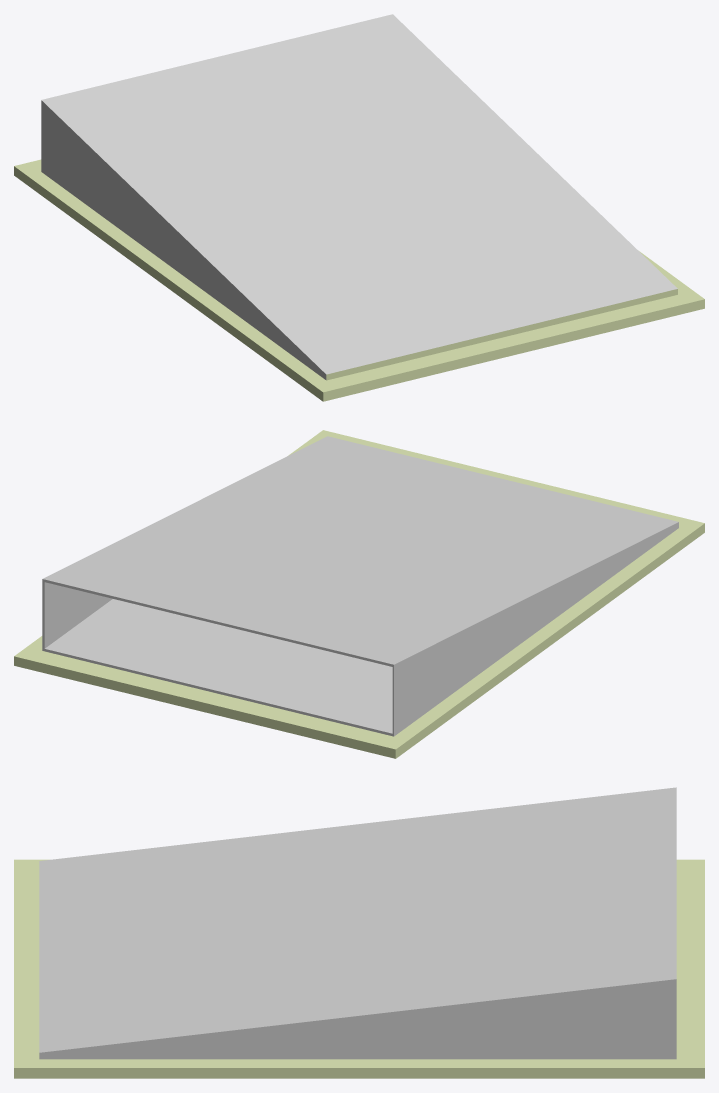
Rendered from plastrik kertas.fbx.
3 views of the same model, one above another, from view 1: azimuth 30°, elevation 25°; view 2: azimuth 150°, elevation 25°; view 3: azimuth 270°, elevation 25° (orthographic). The views are drawn at different scales.
Visible parts, largest first — view 1: plastik kertas; view 2: plastik kertas; view 3: plastik kertas.
Part boxes in pixels (left/top/right/bottom): plastik kertas: left=14, top=14, right=704, bottom=401; plastik kertas: left=14, top=430, right=704, bottom=758; plastik kertas: left=14, top=787, right=704, bottom=1078.
Bounding box in the file's own units: 32.84 × 6.68 × 46.05.
